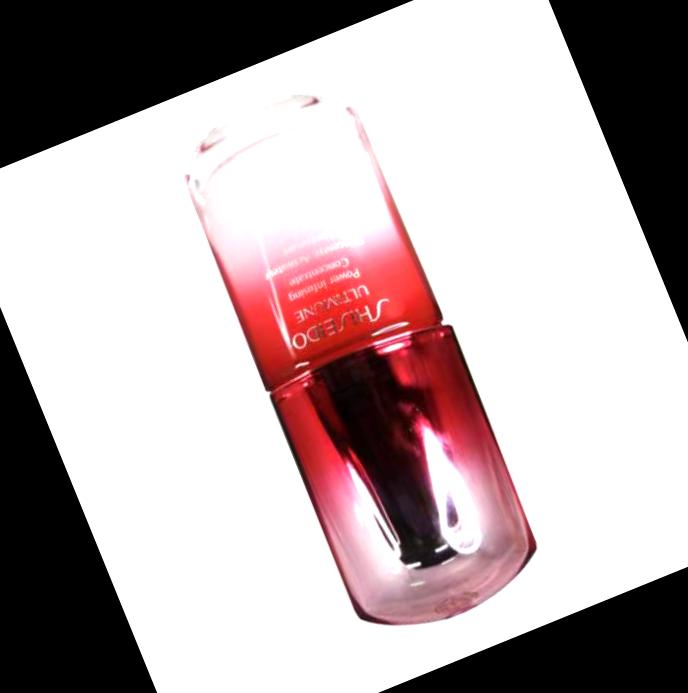cosmetic: (161, 70, 557, 656)
